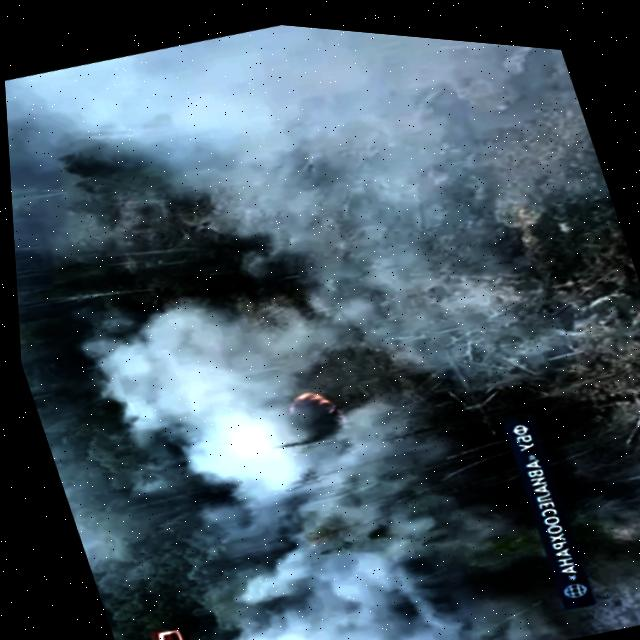Smoke: (75, 250, 384, 567), (210, 480, 515, 640)
